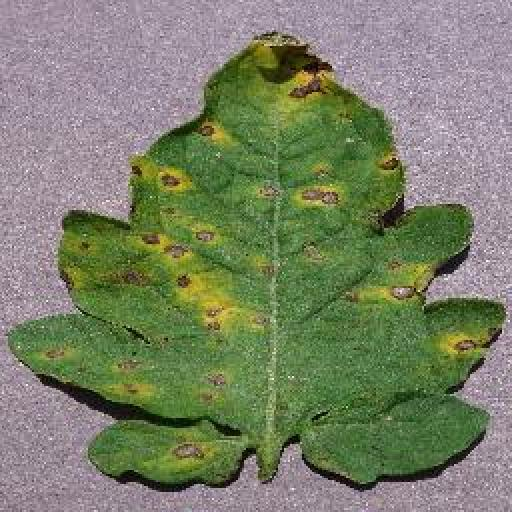disease_tomato: (11, 28, 506, 488)
